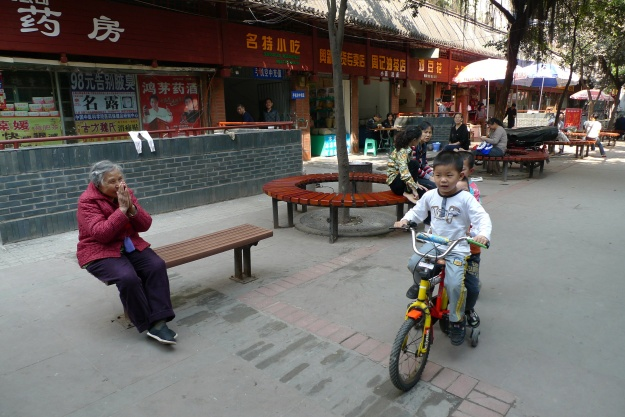person: (74, 160, 181, 349), (395, 150, 494, 345), (388, 125, 427, 200), (472, 115, 508, 164), (583, 114, 608, 158), (420, 122, 436, 189), (449, 113, 473, 154), (547, 112, 572, 142), (364, 112, 384, 140), (260, 98, 279, 124), (431, 97, 450, 117), (234, 103, 253, 122), (382, 111, 397, 125)
